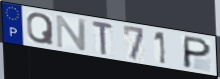1: (153, 31, 167, 66)
7: (122, 24, 146, 62)
N: (55, 14, 88, 52)
P: (182, 35, 213, 70)
Q: (26, 12, 55, 47)
T: (90, 19, 115, 57)
